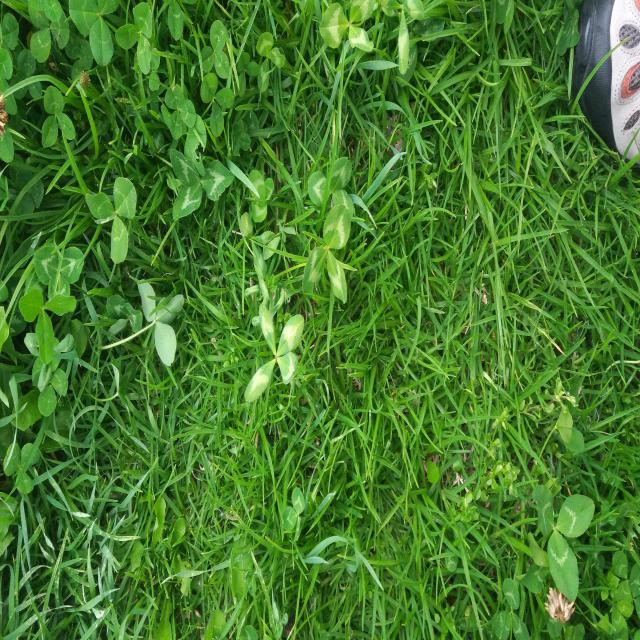Four Leaf Clover: (244, 303, 304, 403), (474, 247, 536, 326)
